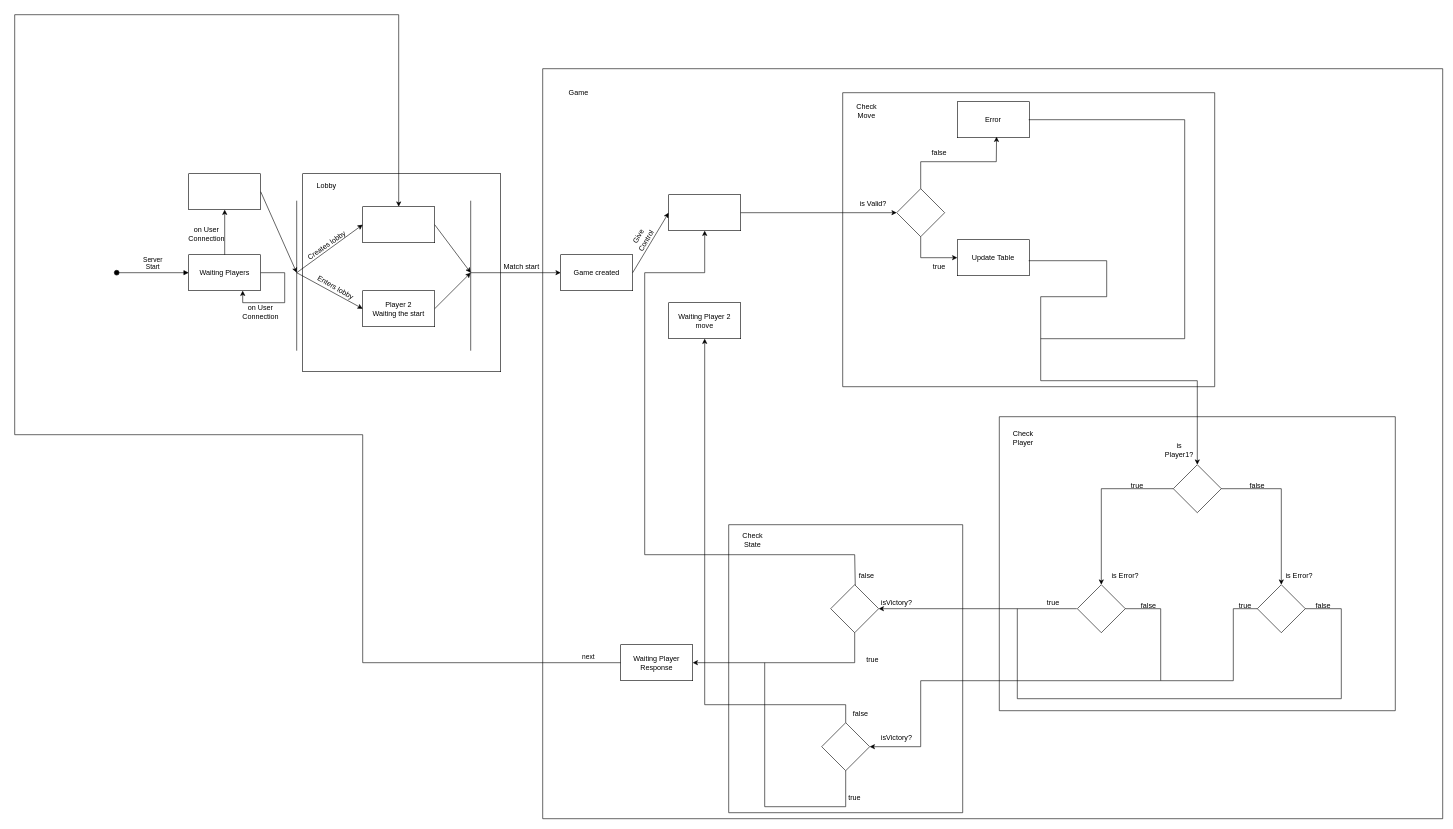
Image size: 1453x829. Some labels were removed from this diagram. The shapes that lost their labels are listed below. From the top down, each one's centre as x and y in pixels, then its label:
At point (224, 191): "User Session Created".
At point (398, 224): "Player 1 Waiting opponent".
At point (704, 212): "Waiting Player 1 move".
